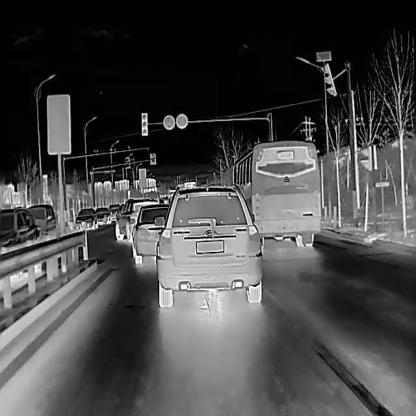car: (155, 184, 261, 307), (231, 139, 319, 246), (131, 206, 169, 264), (0, 206, 40, 259), (114, 197, 158, 242), (24, 203, 56, 242), (73, 207, 97, 231), (95, 205, 111, 225)
